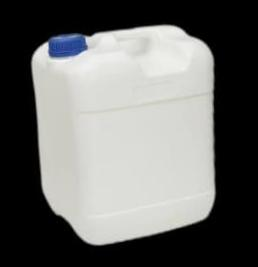Plastik: (31, 24, 216, 244)
